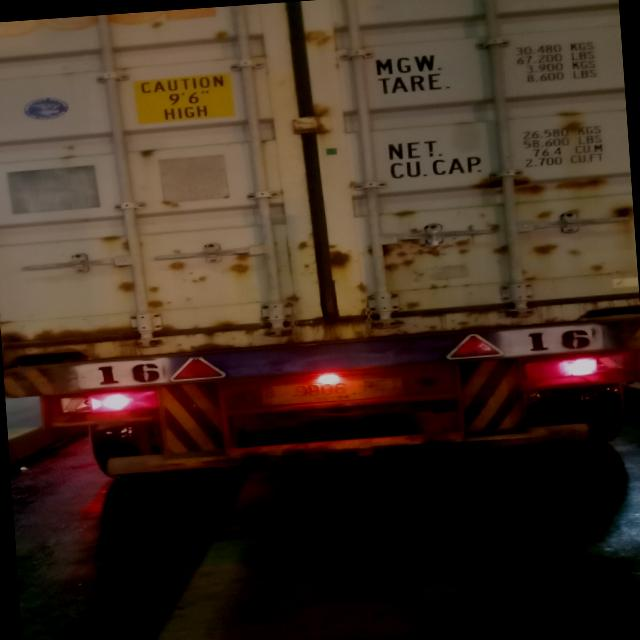seal: (428, 230, 441, 248)
